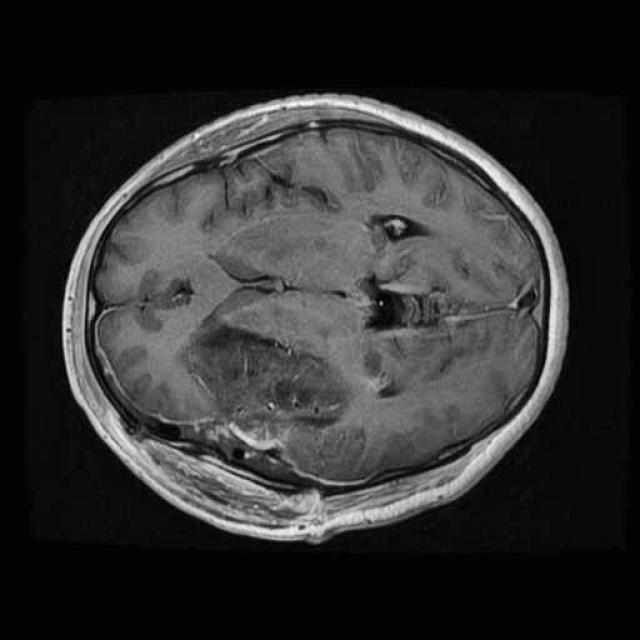Non-Tumor: (174, 300, 364, 462)
